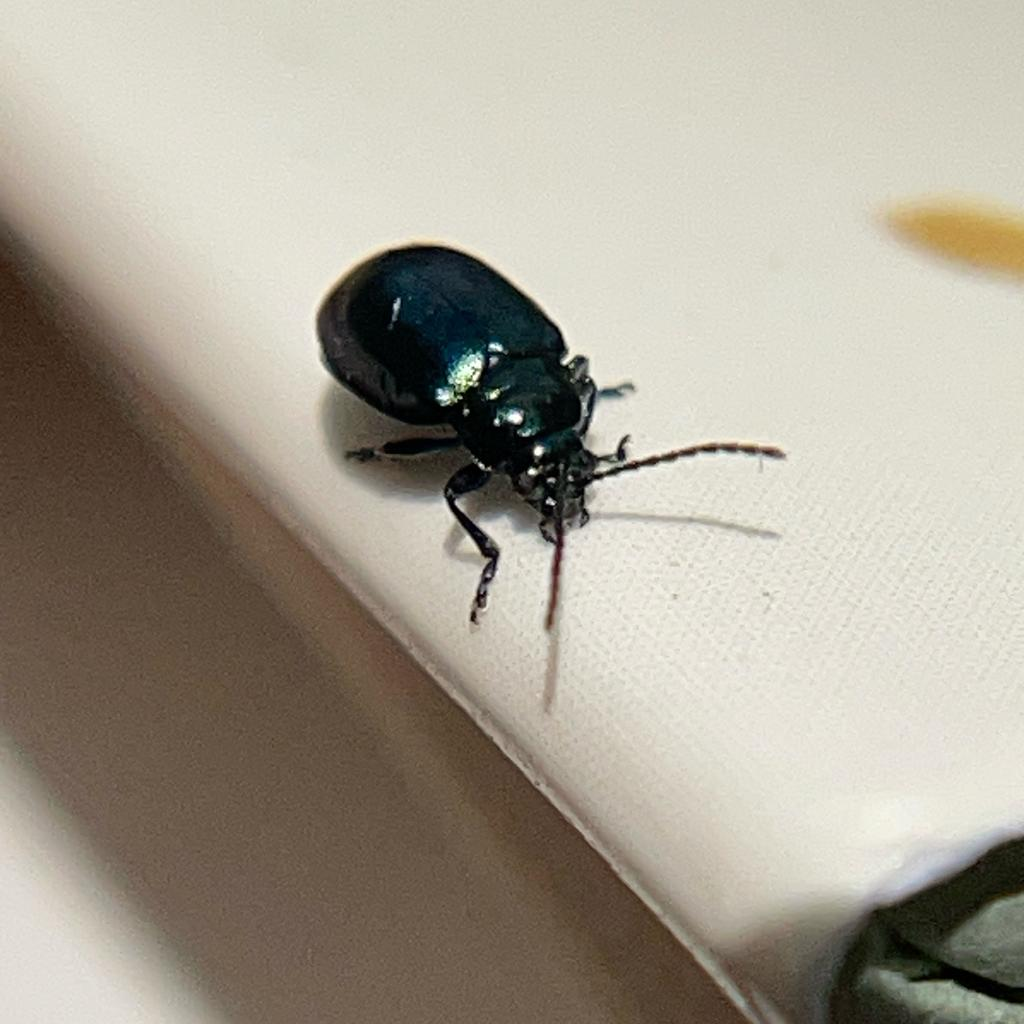flea_beetle: (224, 161, 866, 746)
